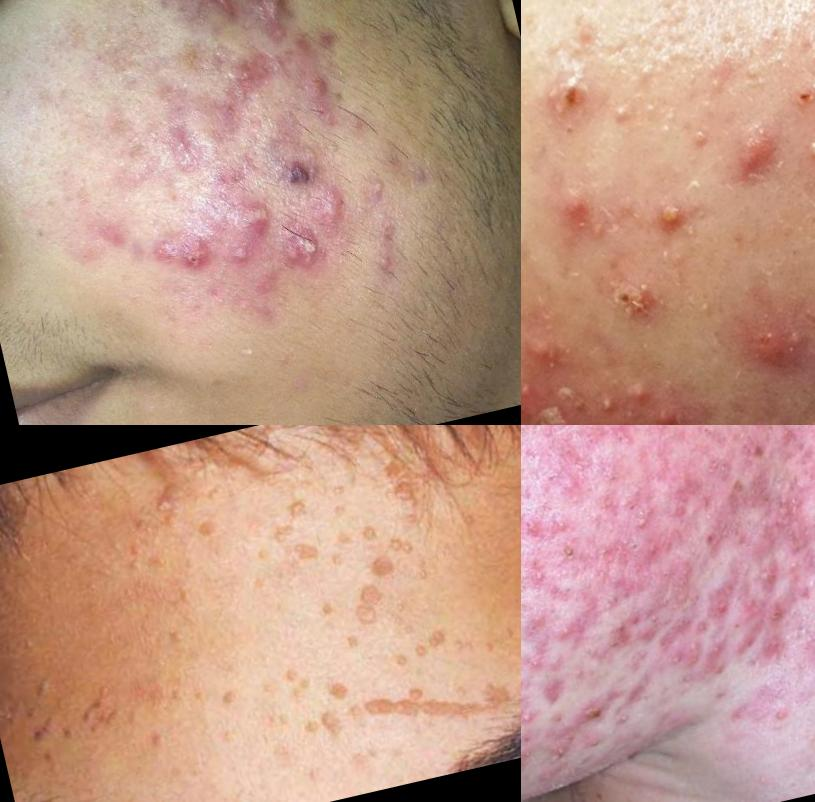flat_wart: (1, 489, 194, 575), (1, 652, 137, 760), (358, 660, 522, 746), (264, 490, 329, 571), (370, 447, 428, 529), (338, 574, 402, 638), (361, 529, 432, 582), (289, 703, 358, 757), (111, 526, 176, 581), (321, 514, 385, 568), (312, 471, 359, 532), (272, 656, 325, 704), (320, 669, 371, 708), (407, 626, 455, 665), (187, 508, 234, 546), (385, 648, 421, 676)
papular: (701, 254, 815, 396), (533, 169, 622, 262), (530, 671, 581, 725), (746, 553, 797, 601), (644, 396, 691, 426)
purulent: (631, 174, 711, 263), (359, 166, 409, 217), (784, 119, 815, 188), (220, 233, 259, 280)
sebo-crystan-conglo: (522, 323, 643, 426), (703, 104, 794, 220), (596, 256, 682, 350), (725, 323, 815, 392), (276, 218, 346, 293), (136, 228, 215, 287), (238, 1, 310, 60), (262, 143, 327, 196), (220, 192, 273, 241)
whitehead: (589, 86, 657, 140), (690, 52, 751, 108), (675, 103, 731, 160), (615, 493, 673, 541), (522, 511, 556, 561), (785, 392, 815, 426)
